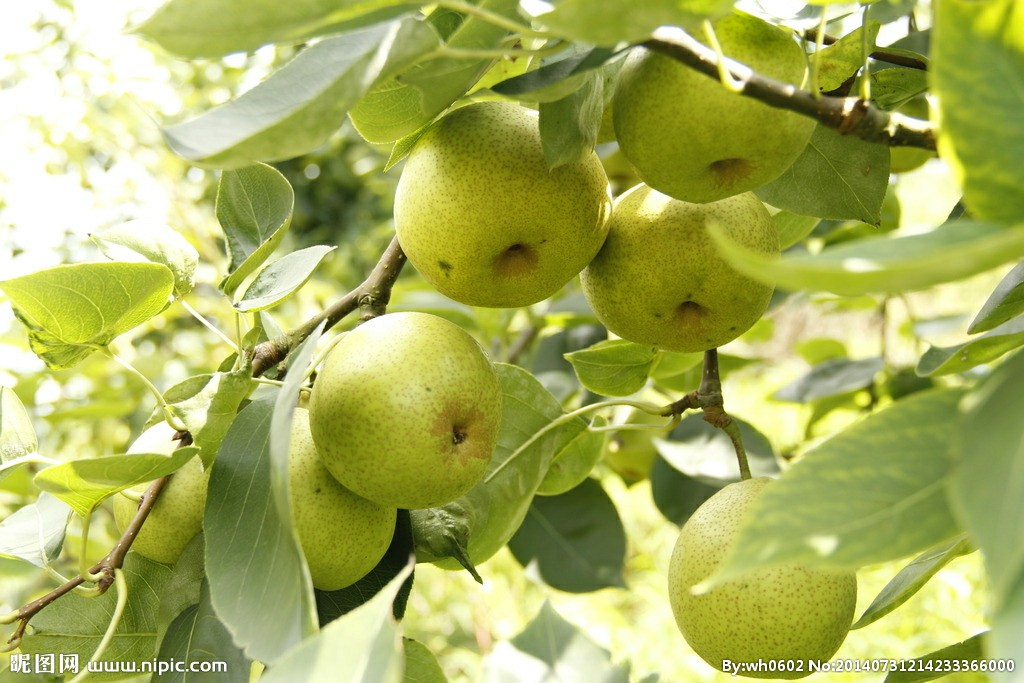pear: (394, 98, 615, 311), (668, 475, 861, 680), (616, 10, 817, 203), (206, 395, 402, 589), (311, 312, 497, 504), (580, 176, 777, 348), (111, 414, 235, 565)
